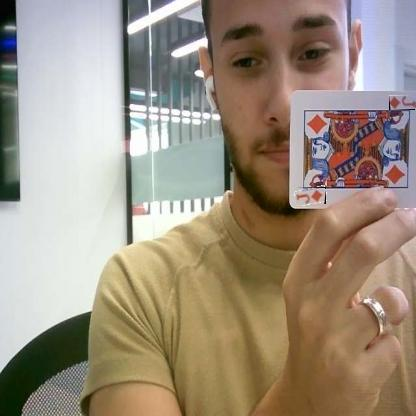JD: (295, 187, 326, 204), (390, 95, 416, 110)
